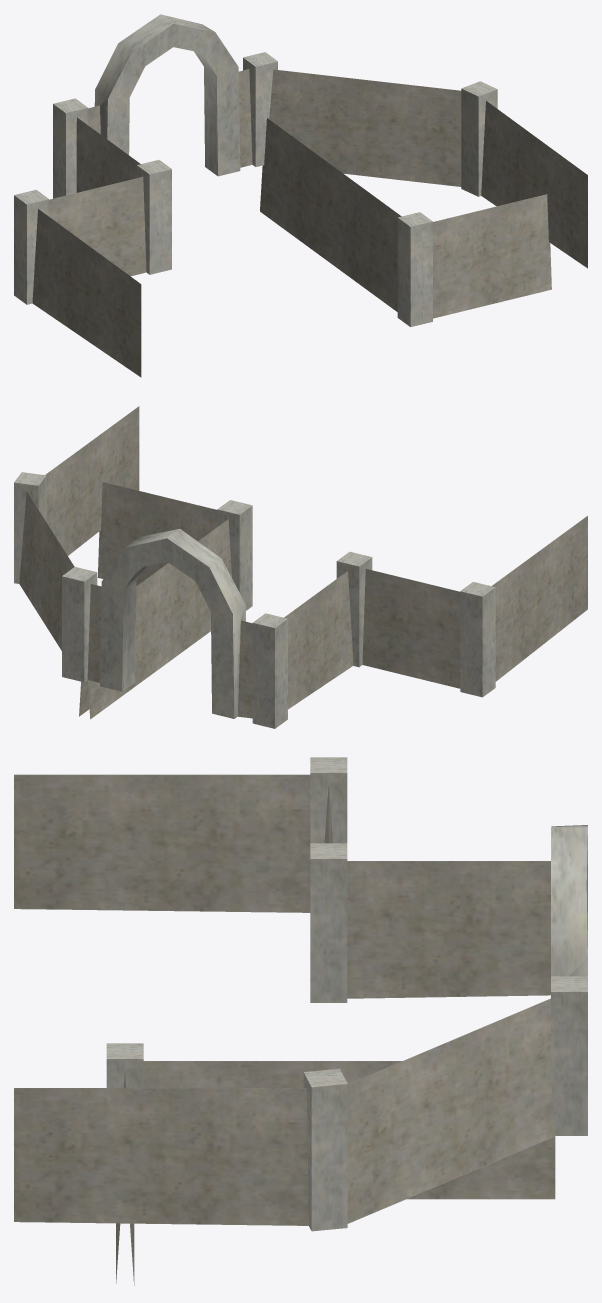
File: poi_all_corral_half_32x32_s01_l1.fbx
The picture shows the model from 3 angles, top to bottom: view 1: azimuth 30°, elevation 25°; view 2: azimuth 150°, elevation 25°; view 3: azimuth 270°, elevation 25°; orthographic projection. The views are drawn at different scales.
Visible parts, largest first — view 1: mesh_node; view 2: mesh_node; view 3: mesh_node.
Part boxes in pixels (x1,y1,x2,y2): mesh_node: (14, 14, 587, 377); mesh_node: (14, 406, 587, 728); mesh_node: (14, 757, 587, 1285).
Size of the model in its own units: 21.1 by 9 by 15.5.
1 material, 1 textured.
